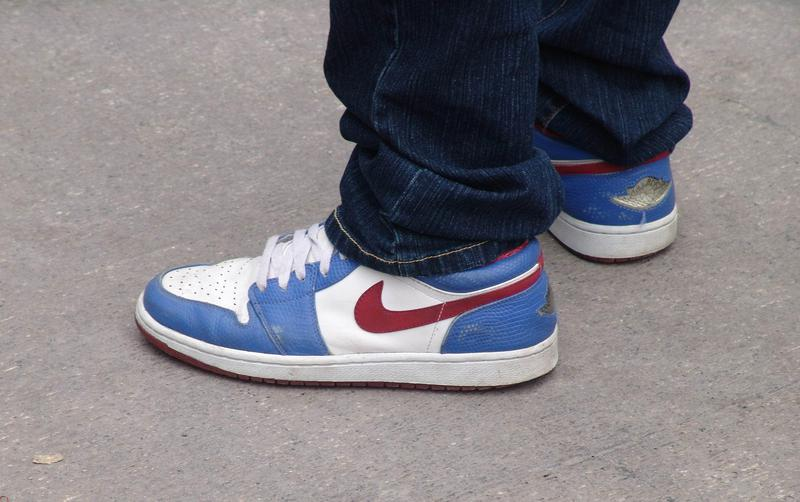nike: (351, 277, 534, 332)
